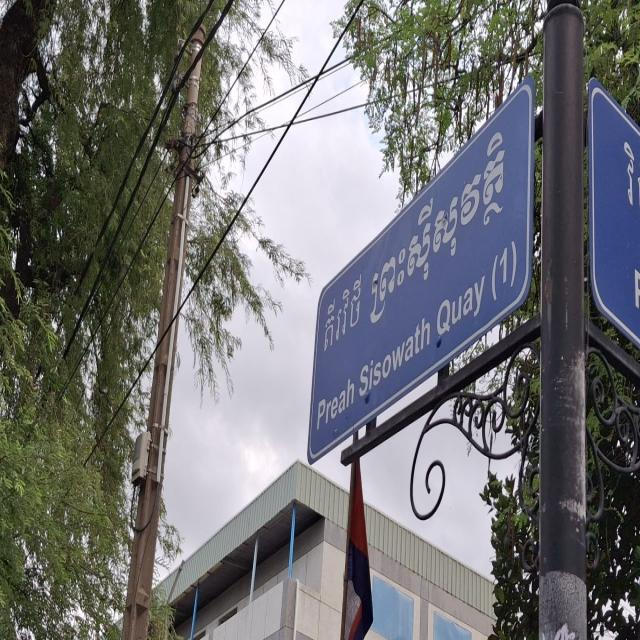Yolov11_80vkh: (368, 102, 520, 353), (298, 258, 363, 390)
